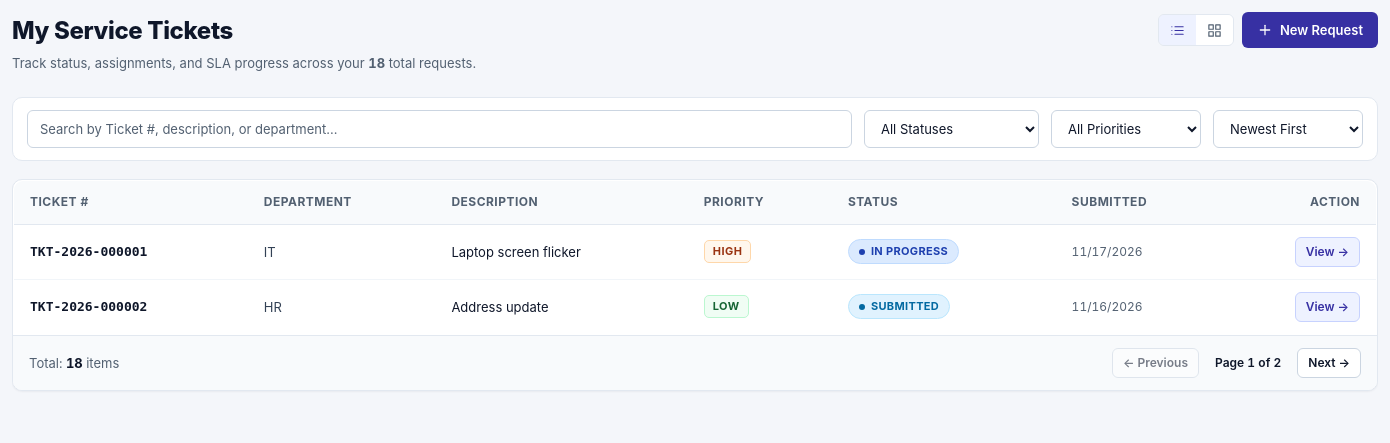
P9.5 Enterprise UI/UX Design System, Themes & Accessibility › P95-07: MyTickets supports table/card layout toggle, priority filter, and backend totalElements count
The image size is (1390, 443).
Check: the text "TKT-2026-000001" is shown, box x1=14 y1=224 x2=248 y2=279
Switch to card view
Click the button named "Card view" at [1214, 30], box x1=1196 y1=15 x2=1233 y2=45
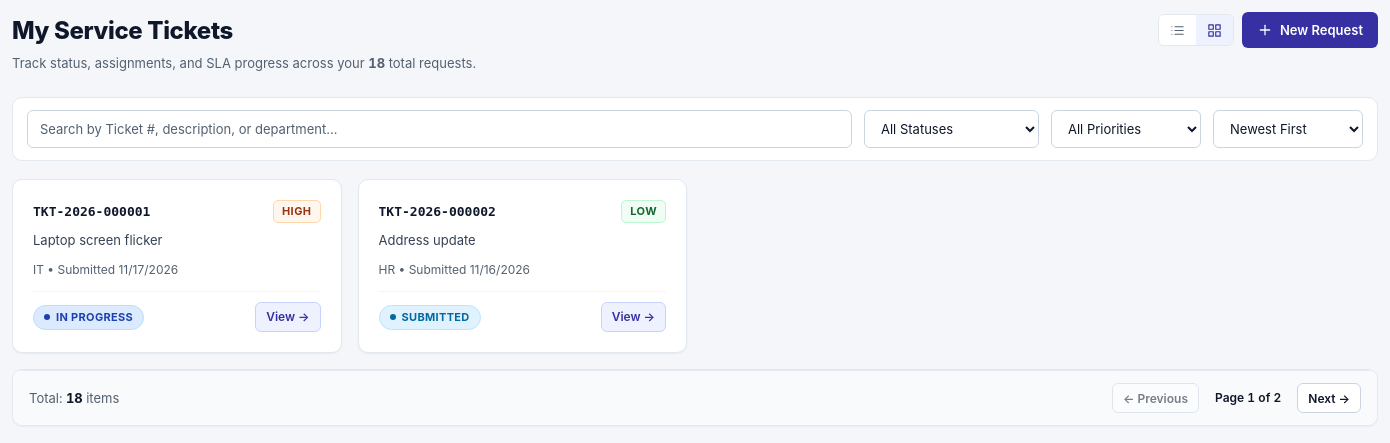
Check: the text "TKT-2026-000001" is shown, box x1=33 y1=202 x2=150 y2=222
Filter by HIGH priority
Select "High" in the dropdown named "Filter by priority" at [1126, 129], box x1=1051 y1=110 x2=1201 y2=148
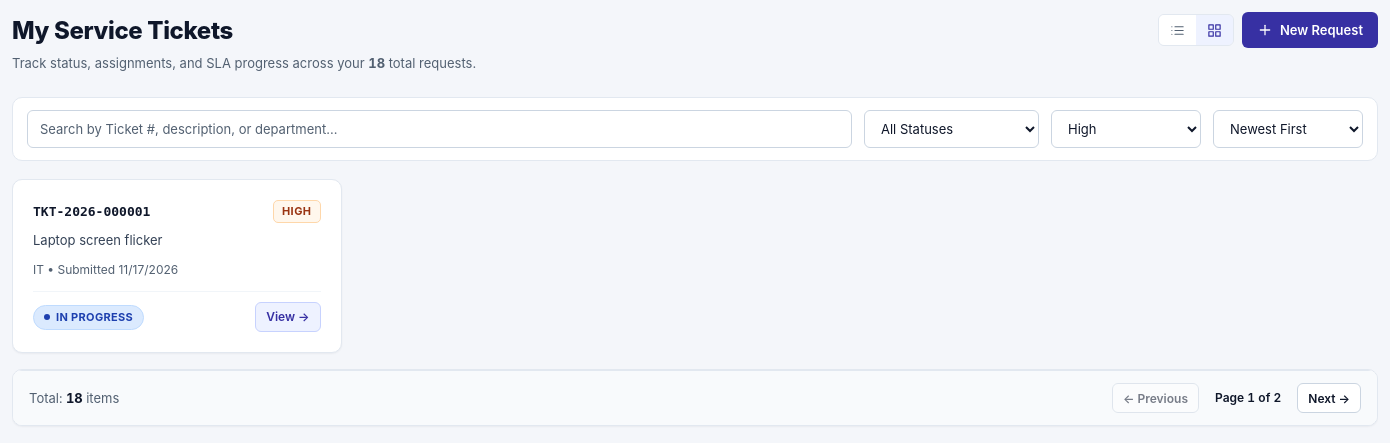
Check: the text "TKT-2026-000001" is shown, box x1=33 y1=202 x2=150 y2=222
Check: the text "TKT-2026-000002" is gone
